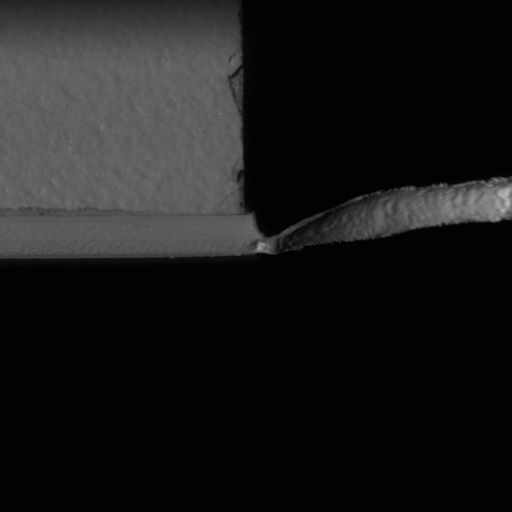changdai: (248, 177, 511, 256)
